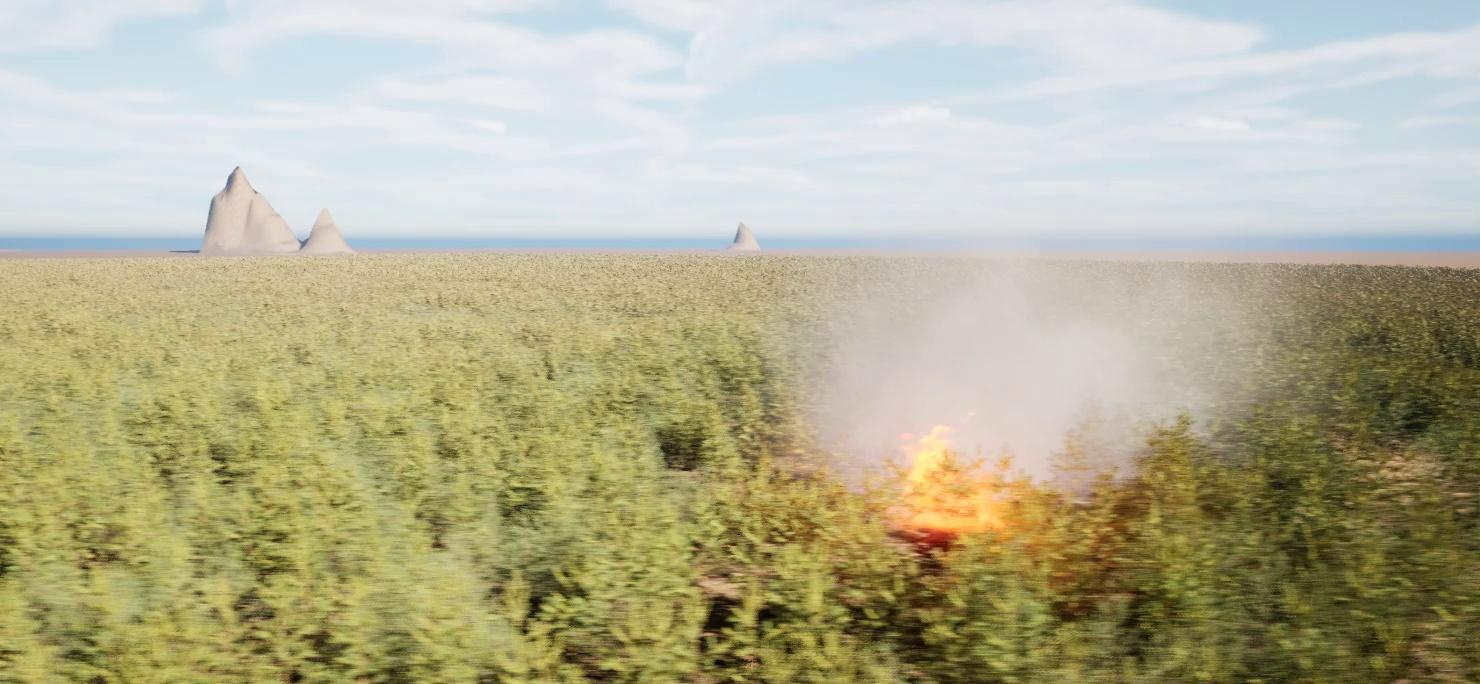fire: (875, 420, 1015, 529)
smoke: (766, 231, 1294, 515)
